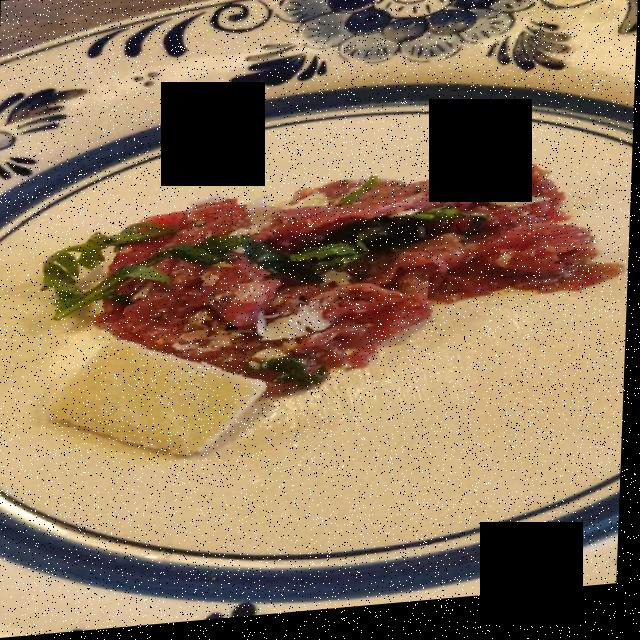parmesan: (50, 336, 283, 457)
